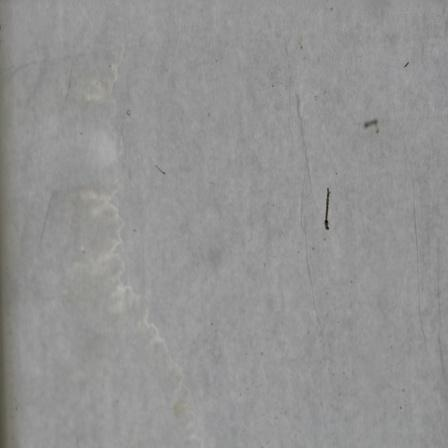Jentik-Nyamuk: (319, 182, 335, 235), (152, 162, 170, 177)
